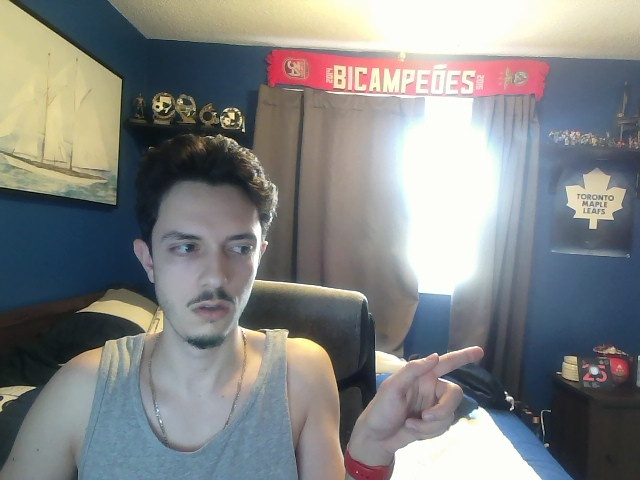Left: (352, 346, 484, 447)
